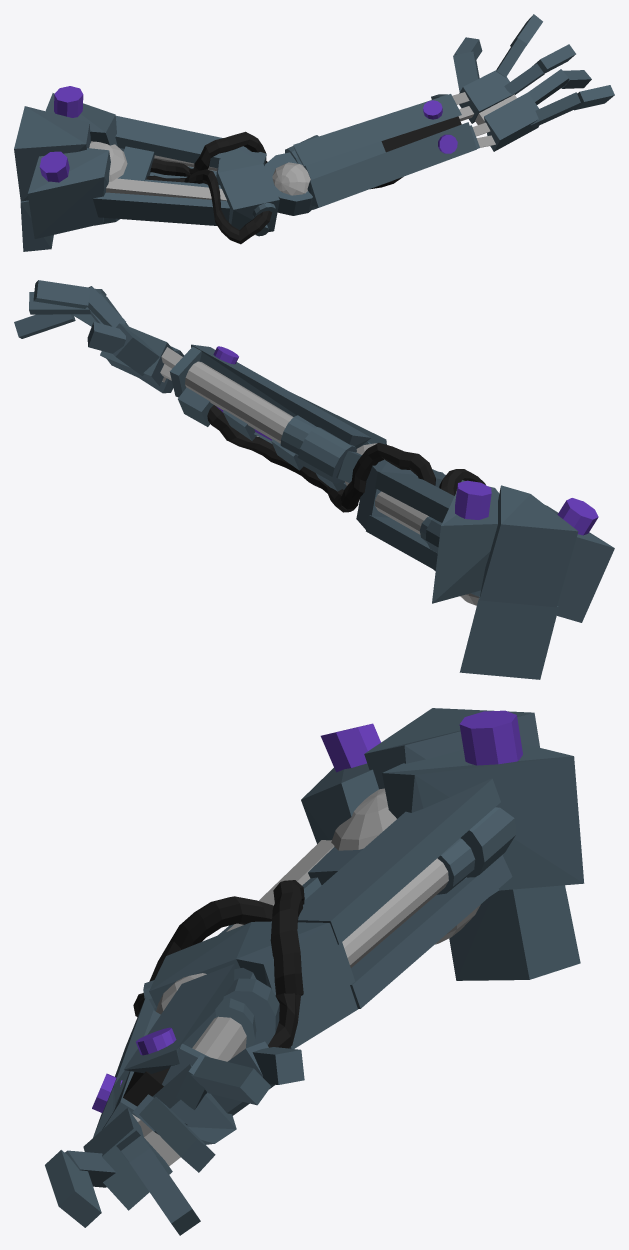
File: robot-arm.glb
3 renders of one model, top to bottom at view 1: azimuth 30°, elevation 25°; view 2: azimuth 150°, elevation 25°; view 3: azimuth 270°, elevation 25°, orthographic. The views are drawn at different scales.
Parts seen in each view (by area): view 1: group1377213604, group1778880710, group776110323, group1740153208, group775105707, group1571642203, group1530678559, group1042586882, group771906783, group1938063174, group158322302, group1890536730 (+20 smaller); view 2: group1740153208, group293501025, group1655410425, group2113193224, group776110323, group1377213604, group1066499727, group1530678559, group945340242, group1938063174, group2136658184, group1571642203 (+14 smaller); view 3: group1655410425, group1530678559, group1571642203, group293501025, group2136658184, group1740153208, group776110323, group250403299, group1377213604, group1938063174, group771906783, group586228653 (+23 smaller).
Boxes of the visible parts, box(x1,y1,x2,y2) form: group1377213604: box(27, 148, 110, 238); group1778880710: box(307, 122, 476, 207); group776110323: box(293, 94, 461, 165); group1740153208: box(14, 106, 90, 201); group775105707: box(92, 179, 229, 225); group1571642203: box(216, 146, 279, 231); group1530678559: box(115, 115, 222, 168); group1042586882: box(484, 92, 538, 151); group771906783: box(146, 169, 272, 244); group1938063174: box(150, 131, 266, 176); group158322302: box(106, 178, 226, 200); group1890536730: box(459, 70, 516, 123); group1740153208: box(479, 485, 578, 607); group293501025: box(459, 596, 558, 679); group1655410425: box(432, 480, 499, 603); group2113193224: box(185, 361, 293, 443); group776110323: box(191, 344, 370, 448); group1377213604: box(545, 505, 614, 622); group1066499727: box(207, 405, 363, 512); group1530678559: box(375, 471, 454, 522); group945340242: box(297, 427, 356, 483); group1938063174: box(351, 443, 435, 492); group2136658184: box(366, 515, 437, 570); group1571642203: box(356, 459, 456, 529); group1655410425: box(382, 743, 584, 890); group1530678559: box(298, 778, 500, 944); group1571642203: box(149, 921, 358, 1048); group293501025: box(449, 885, 580, 980); group2136658184: box(350, 855, 512, 1008); group1740153208: box(364, 708, 539, 789); group776110323: box(124, 964, 234, 1073); group250403299: box(342, 858, 448, 967); group1377213604: box(301, 763, 378, 843); group1938063174: box(270, 880, 304, 995); group771906783: box(133, 896, 273, 1016); group586228653: box(459, 710, 522, 765).
Size of the model in its own units: 1.23 by 0.3788 by 0.5535.
